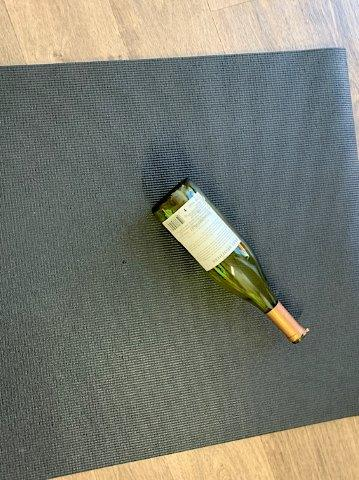botolkaca: (153, 178, 304, 342)
